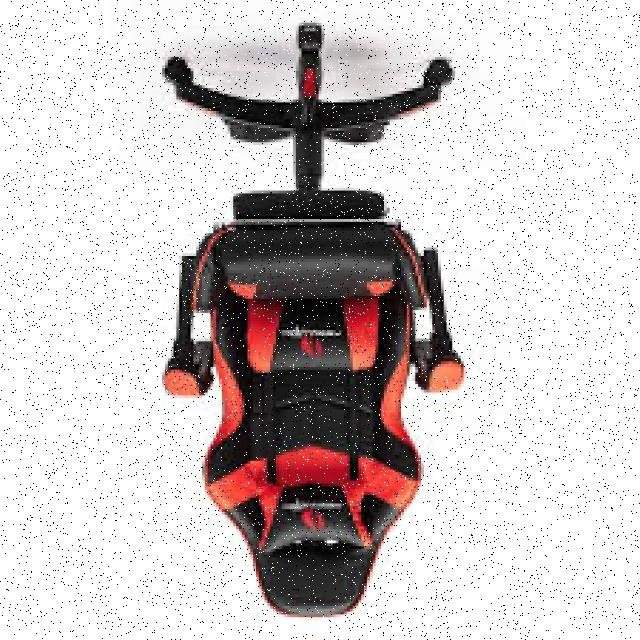bottle: (157, 24, 472, 618)
